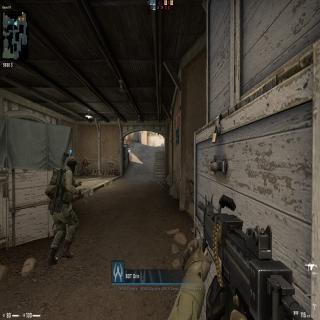CT-Head: (66, 156, 78, 174)
T-Head: (85, 157, 87, 162)
